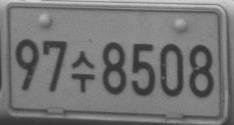0: (159, 42, 184, 96)
5: (131, 42, 155, 96)
7: (42, 39, 67, 91)
8: (188, 43, 214, 98), (101, 41, 127, 94)
9: (15, 38, 39, 90)
수: (70, 50, 95, 93)
